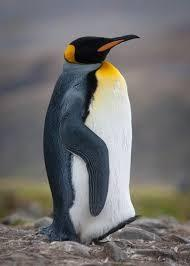king: (37, 19, 164, 257)
